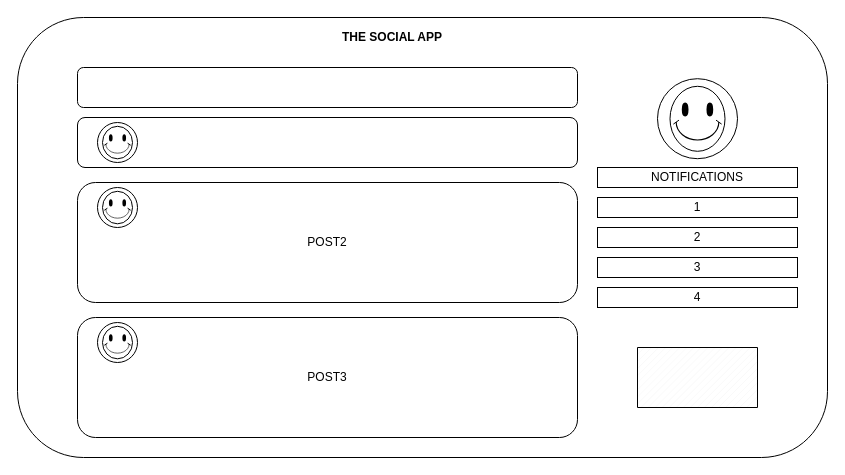
Some shapes in this 845 by 475 pixel diagram are drawn without their labels. Each missing label, with the box of its shape:
CHATROOM: (636, 346, 758, 408)
POST1: (76, 116, 578, 168)
WRITE OR POST PICTURES HERE: (76, 66, 578, 108)
